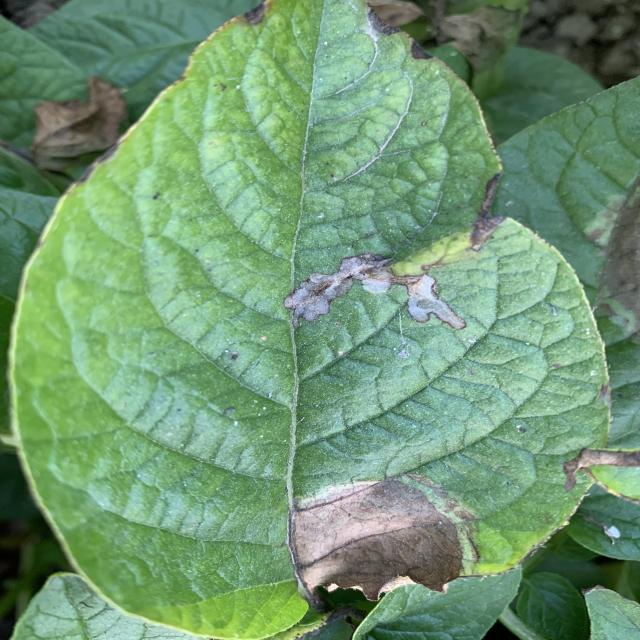lateblight: (293, 479, 462, 600), (283, 254, 467, 329), (420, 174, 505, 271), (563, 448, 640, 476)
